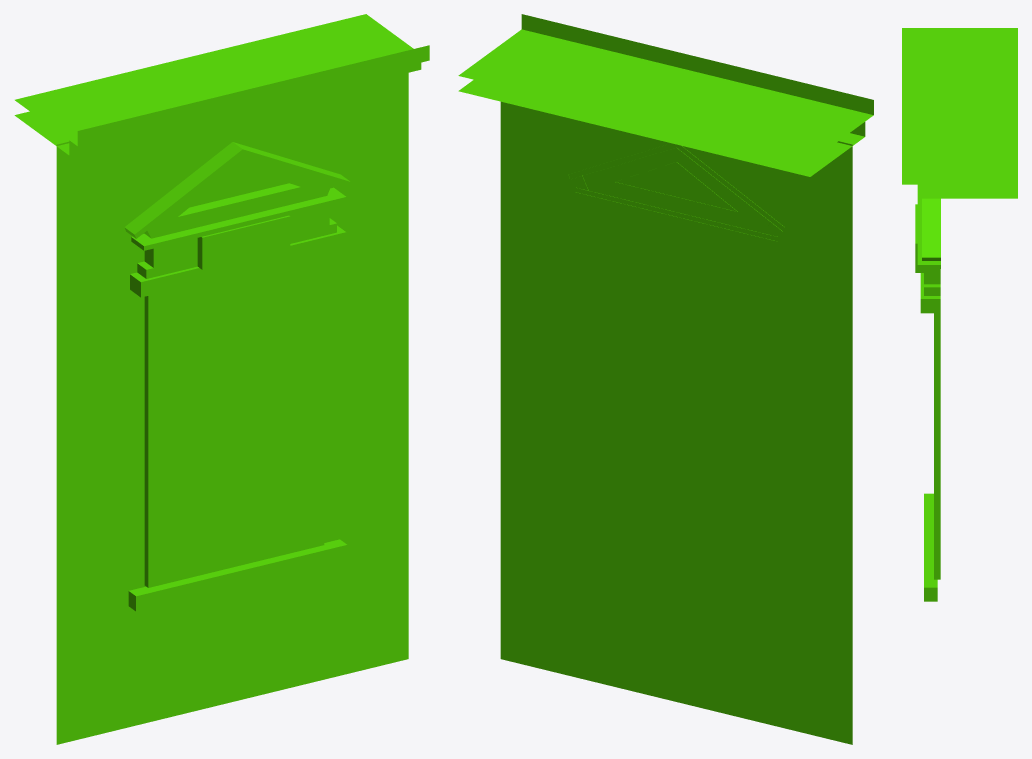
File: SM_town_BD_3F.fbx
The picture shows the model from 3 angles, left to right: view 1: azimuth 30°, elevation 25°; view 2: azimuth 150°, elevation 25°; view 3: azimuth 270°, elevation 25°; orthographic projection. The views are drawn at different scales.
Visible parts, largest first — view 1: 3F_main_low.001; view 2: 3F_main_low.001; view 3: 3F_main_low.001.
Part boxes in pixels (left/top/right/bottom): 3F_main_low.001: left=14, top=14, right=429, bottom=744; 3F_main_low.001: left=458, top=14, right=873, bottom=744; 3F_main_low.001: left=902, top=28, right=1017, bottom=601.
Size of the model in its own units: 240 by 410 by 75.
